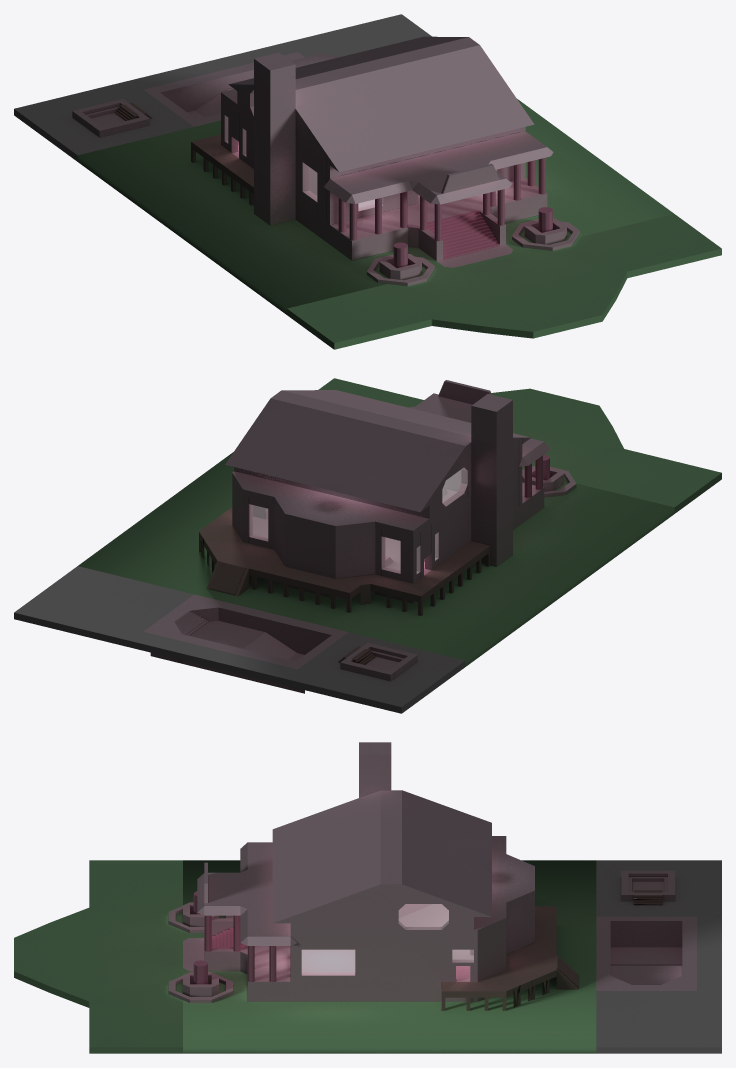
File: lit.obj
3 views of the same model, one above another, from view 1: azimuth 30°, elevation 25°; view 2: azimuth 150°, elevation 25°; view 3: azimuth 270°, elevation 25° (orthographic).
Parts seen in each view (by area): view 1: House_mesh1513493504, windows_mesh249858546; view 2: House_mesh1513493504, windows_mesh249858546; view 3: House_mesh1513493504, windows_mesh249858546.
Part boxes in pixels (box(x1,y1,x2,y2)): House_mesh1513493504: box(14, 14, 721, 349); windows_mesh249858546: box(225, 90, 496, 210); House_mesh1513493504: box(14, 378, 721, 713); windows_mesh249858546: box(249, 468, 467, 573); House_mesh1513493504: box(14, 742, 721, 1053); windows_mesh249858546: box(301, 904, 473, 975).
Size of the model in its own units: 1.23 by 0.56 by 1.97.
6 materials, 5 textured.
